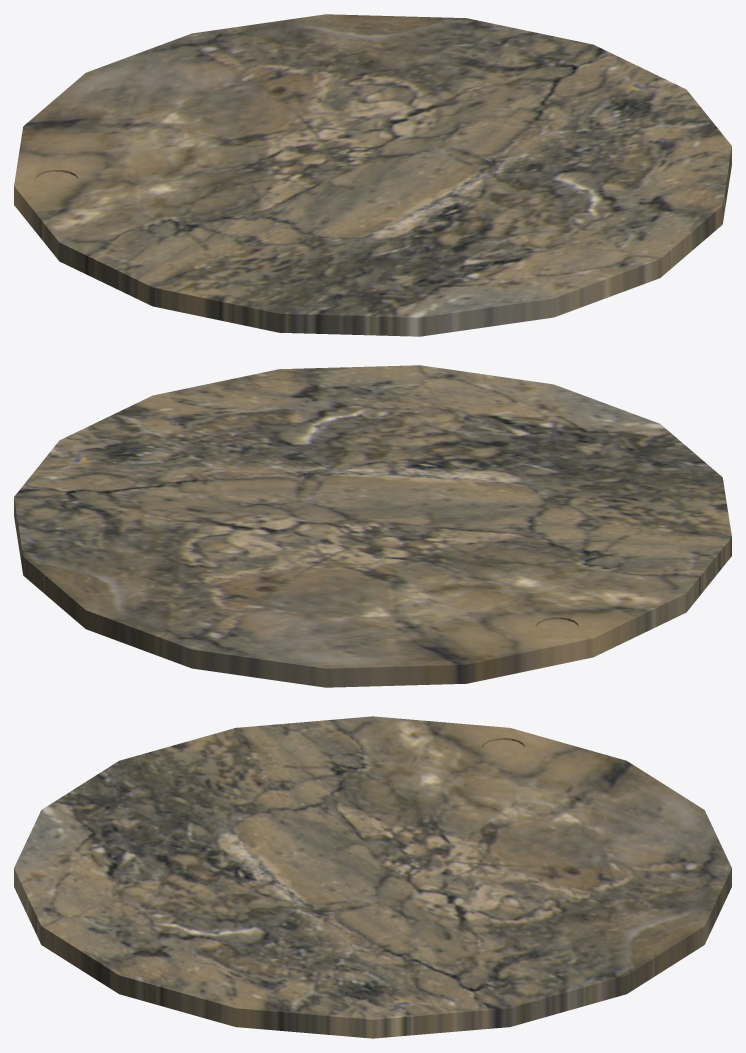
Rendered from circulo_piedra3.FBX.
3 renders of one model, top to bottom at view 1: azimuth 30°, elevation 25°; view 2: azimuth 150°, elevation 25°; view 3: azimuth 270°, elevation 25°, orthographic.
Visible parts, largest first — view 1: circulo_piedra002; view 2: circulo_piedra002; view 3: circulo_piedra002.
Part boxes in pixels (<box>): circulo_piedra002: <box>14,14,731,336</box>; circulo_piedra002: <box>14,365,731,687</box>; circulo_piedra002: <box>14,716,731,1038</box>.
Bounding box in the file's own units: 66.02 × 1.91 × 66.02.
